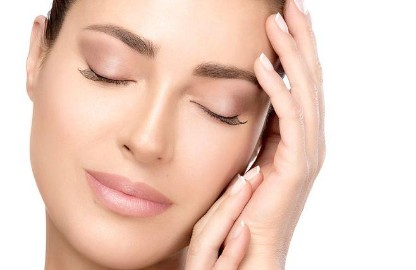闭眼: (71, 47, 139, 94), (189, 84, 250, 132)
